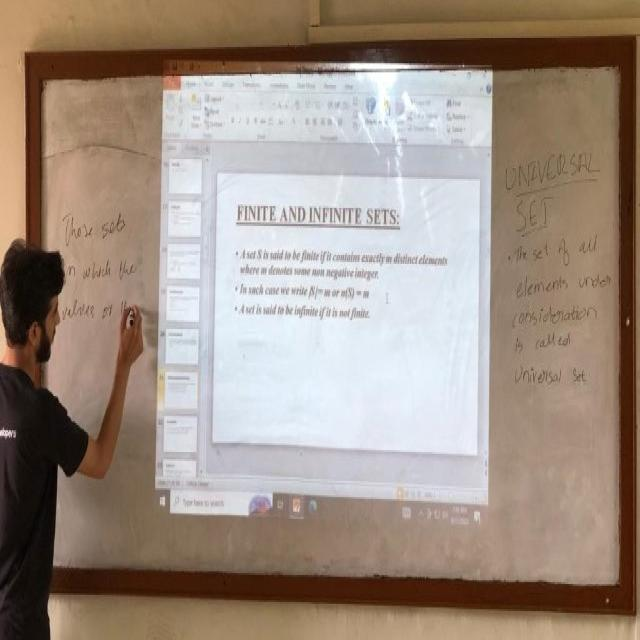Instructor: (0, 222, 80, 624)
Slide: (154, 66, 492, 531)
White-board: (36, 49, 627, 592)
